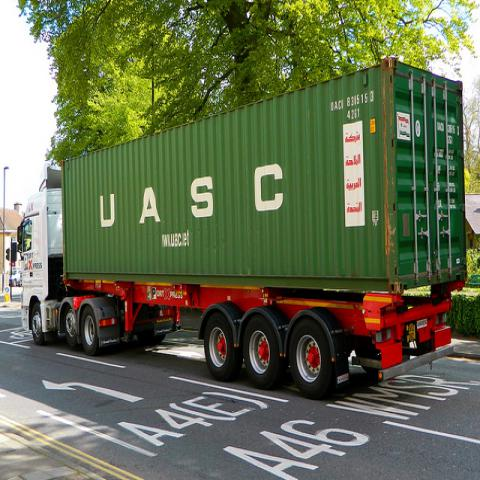car: (9, 272, 21, 288)
truck: (15, 50, 470, 405)
